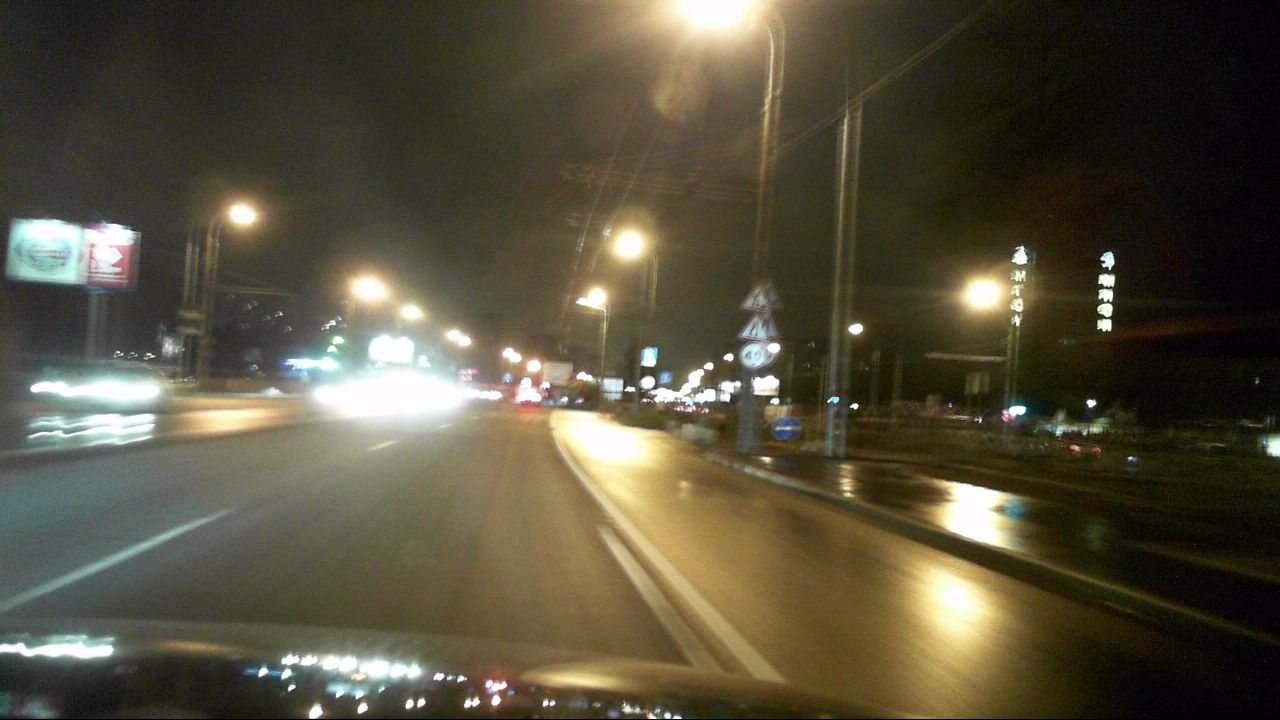speed_warning_40: (737, 343, 763, 374)
